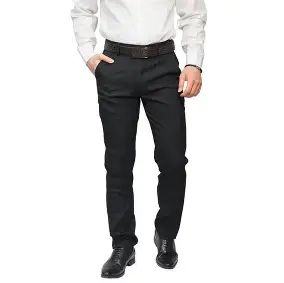celana_benar: (98, 53, 188, 242)
sabuk_ada: (101, 41, 176, 55)
